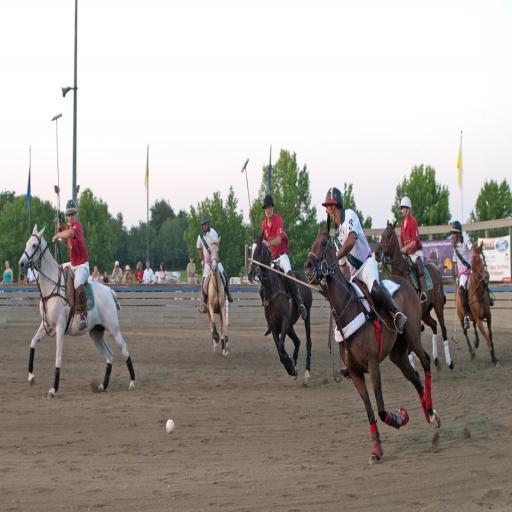horse: (304, 216, 442, 463), (17, 220, 139, 403), (373, 210, 452, 374), (243, 229, 314, 386), (454, 242, 498, 370), (203, 232, 231, 357)
